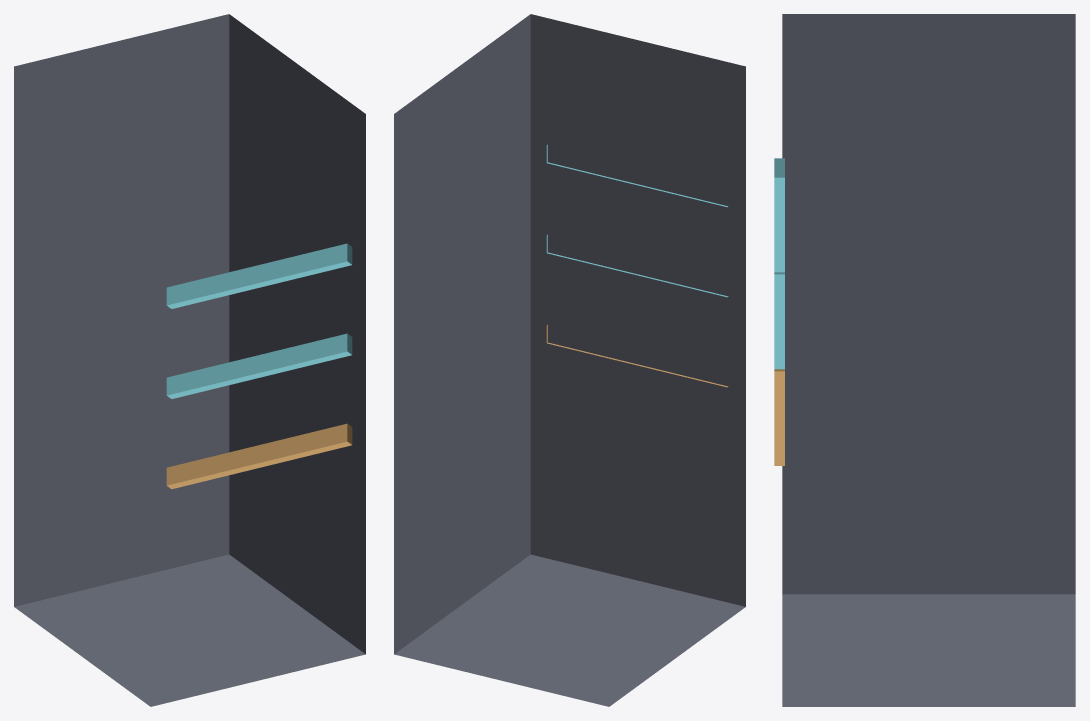
Rendered from server_rack.gltf.
3 renders of one model, left to right at view 1: azimuth 30°, elevation 25°; view 2: azimuth 150°, elevation 25°; view 3: azimuth 270°, elevation 25°, orthographic. The views are drawn at different scales.
Parts seen in each view (by area): view 1: server_rack; view 2: server_rack; view 3: server_rack.
Part boxes in pixels (left/top/right/bottom): server_rack: left=14, top=14, right=365, bottom=706; server_rack: left=394, top=14, right=745, bottom=706; server_rack: left=774, top=14, right=1075, bottom=706.
Bounding box in the file's own units: 0.5 × 1.2 × 0.565.
